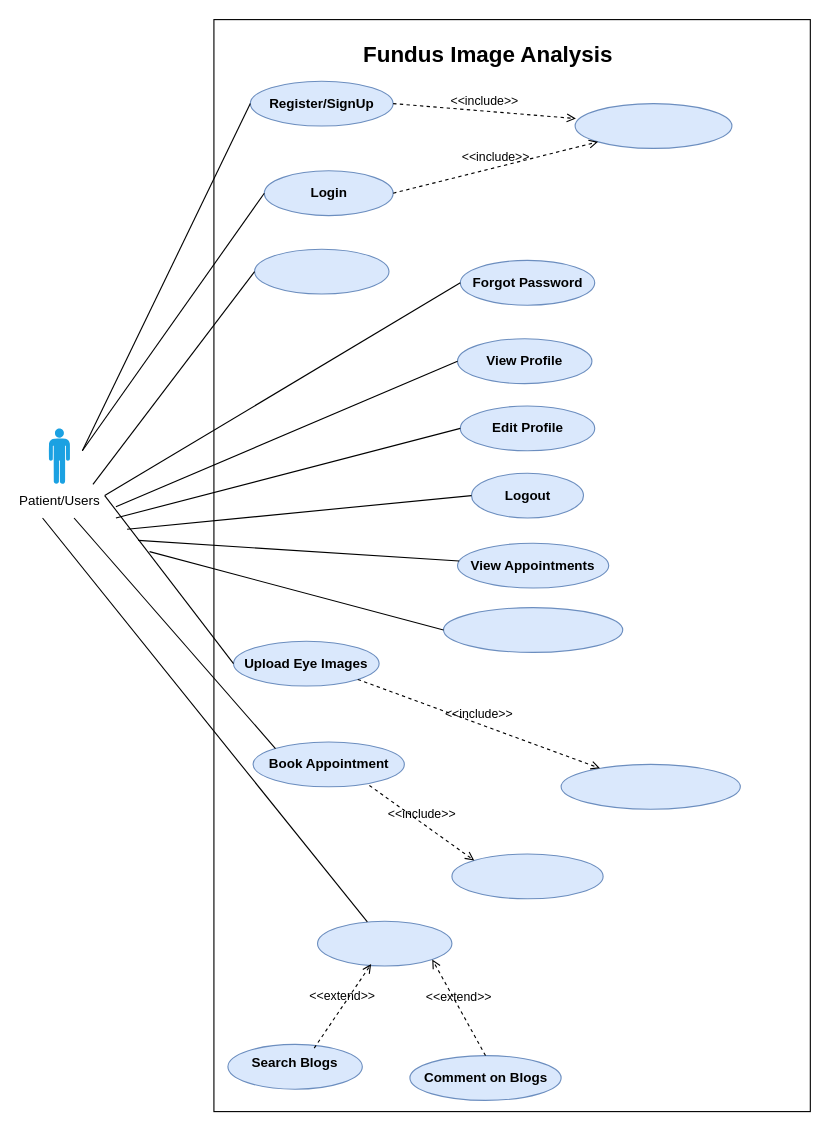
Some shapes in this 830 by 1131 pixel diagram are drawn without their labels. Each missing label, with the box of its shape:
Cancel Appointments: (442, 606, 623, 652)
Email Verification: (574, 102, 732, 148)
Read Blogs: (316, 920, 452, 966)
Search Doctor: (253, 248, 389, 294)
View Diagnosis Report: (560, 763, 740, 809)
View Doctor Profile: (451, 853, 603, 899)
